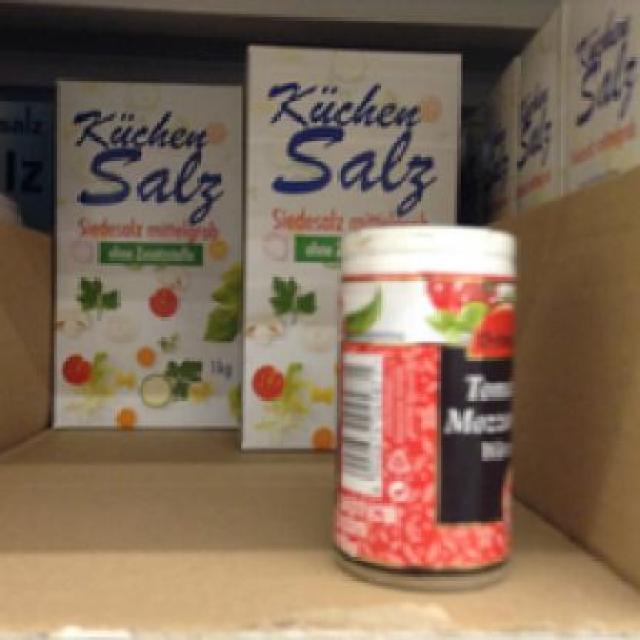Spices: (231, 37, 460, 450), (326, 220, 517, 589), (48, 71, 241, 428)
